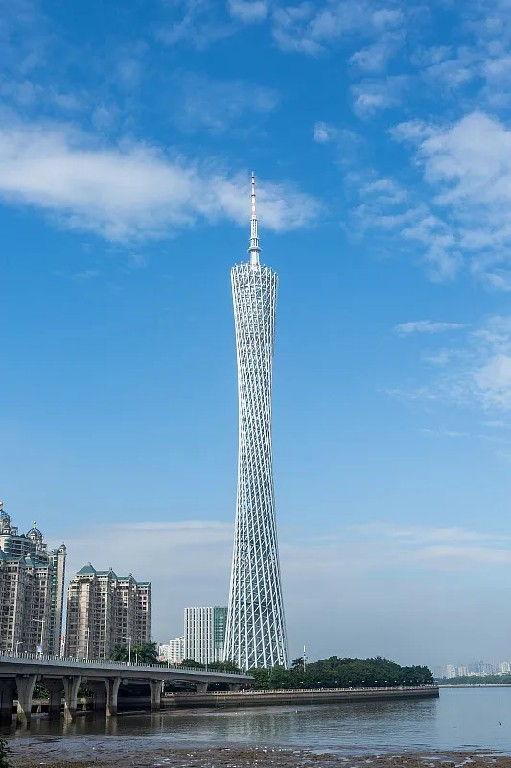Canton: (224, 170, 286, 670)
